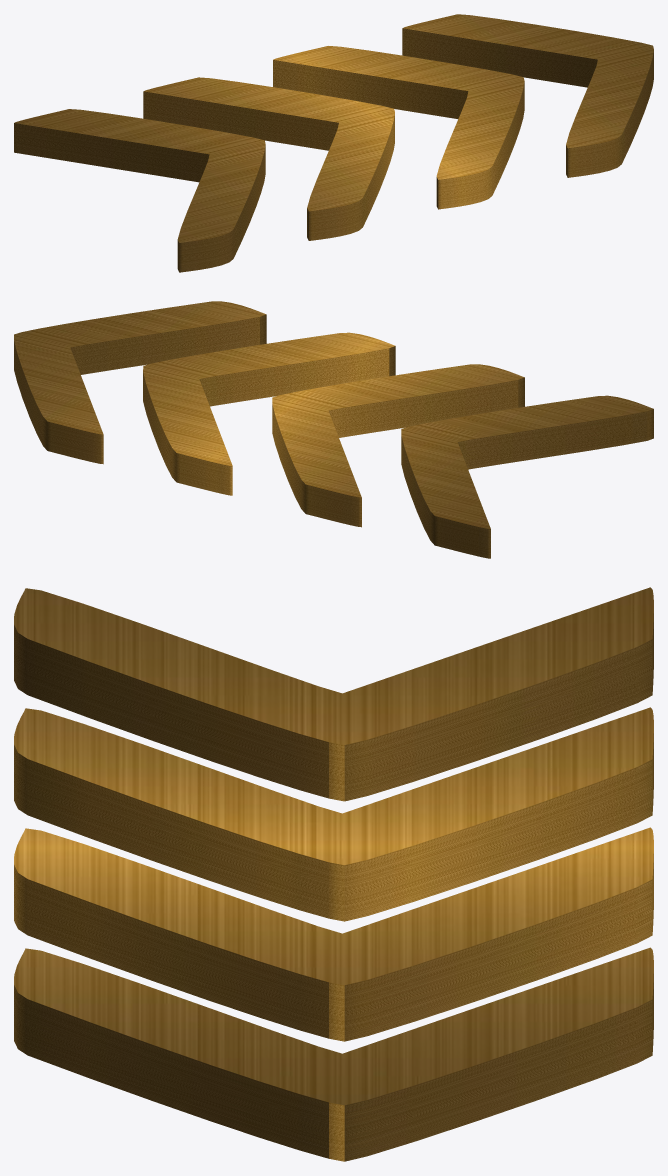
The model's file is speedArrow.FBX.
The picture shows the model from 3 angles, top to bottom: view 1: azimuth 30°, elevation 25°; view 2: azimuth 150°, elevation 25°; view 3: azimuth 270°, elevation 25°; orthographic projection. The views are drawn at different scales.
Visible parts, largest first — view 1: Line001; view 2: Line001; view 3: Line001.
Boxes of the visible parts, <box> form: Line001: <box>14,14,653,272</box>; Line001: <box>14,301,653,558</box>; Line001: <box>14,587,653,1161</box>.
Bounding box in the file's own units: 197 × 10 × 103.
1 material, 1 textured.
